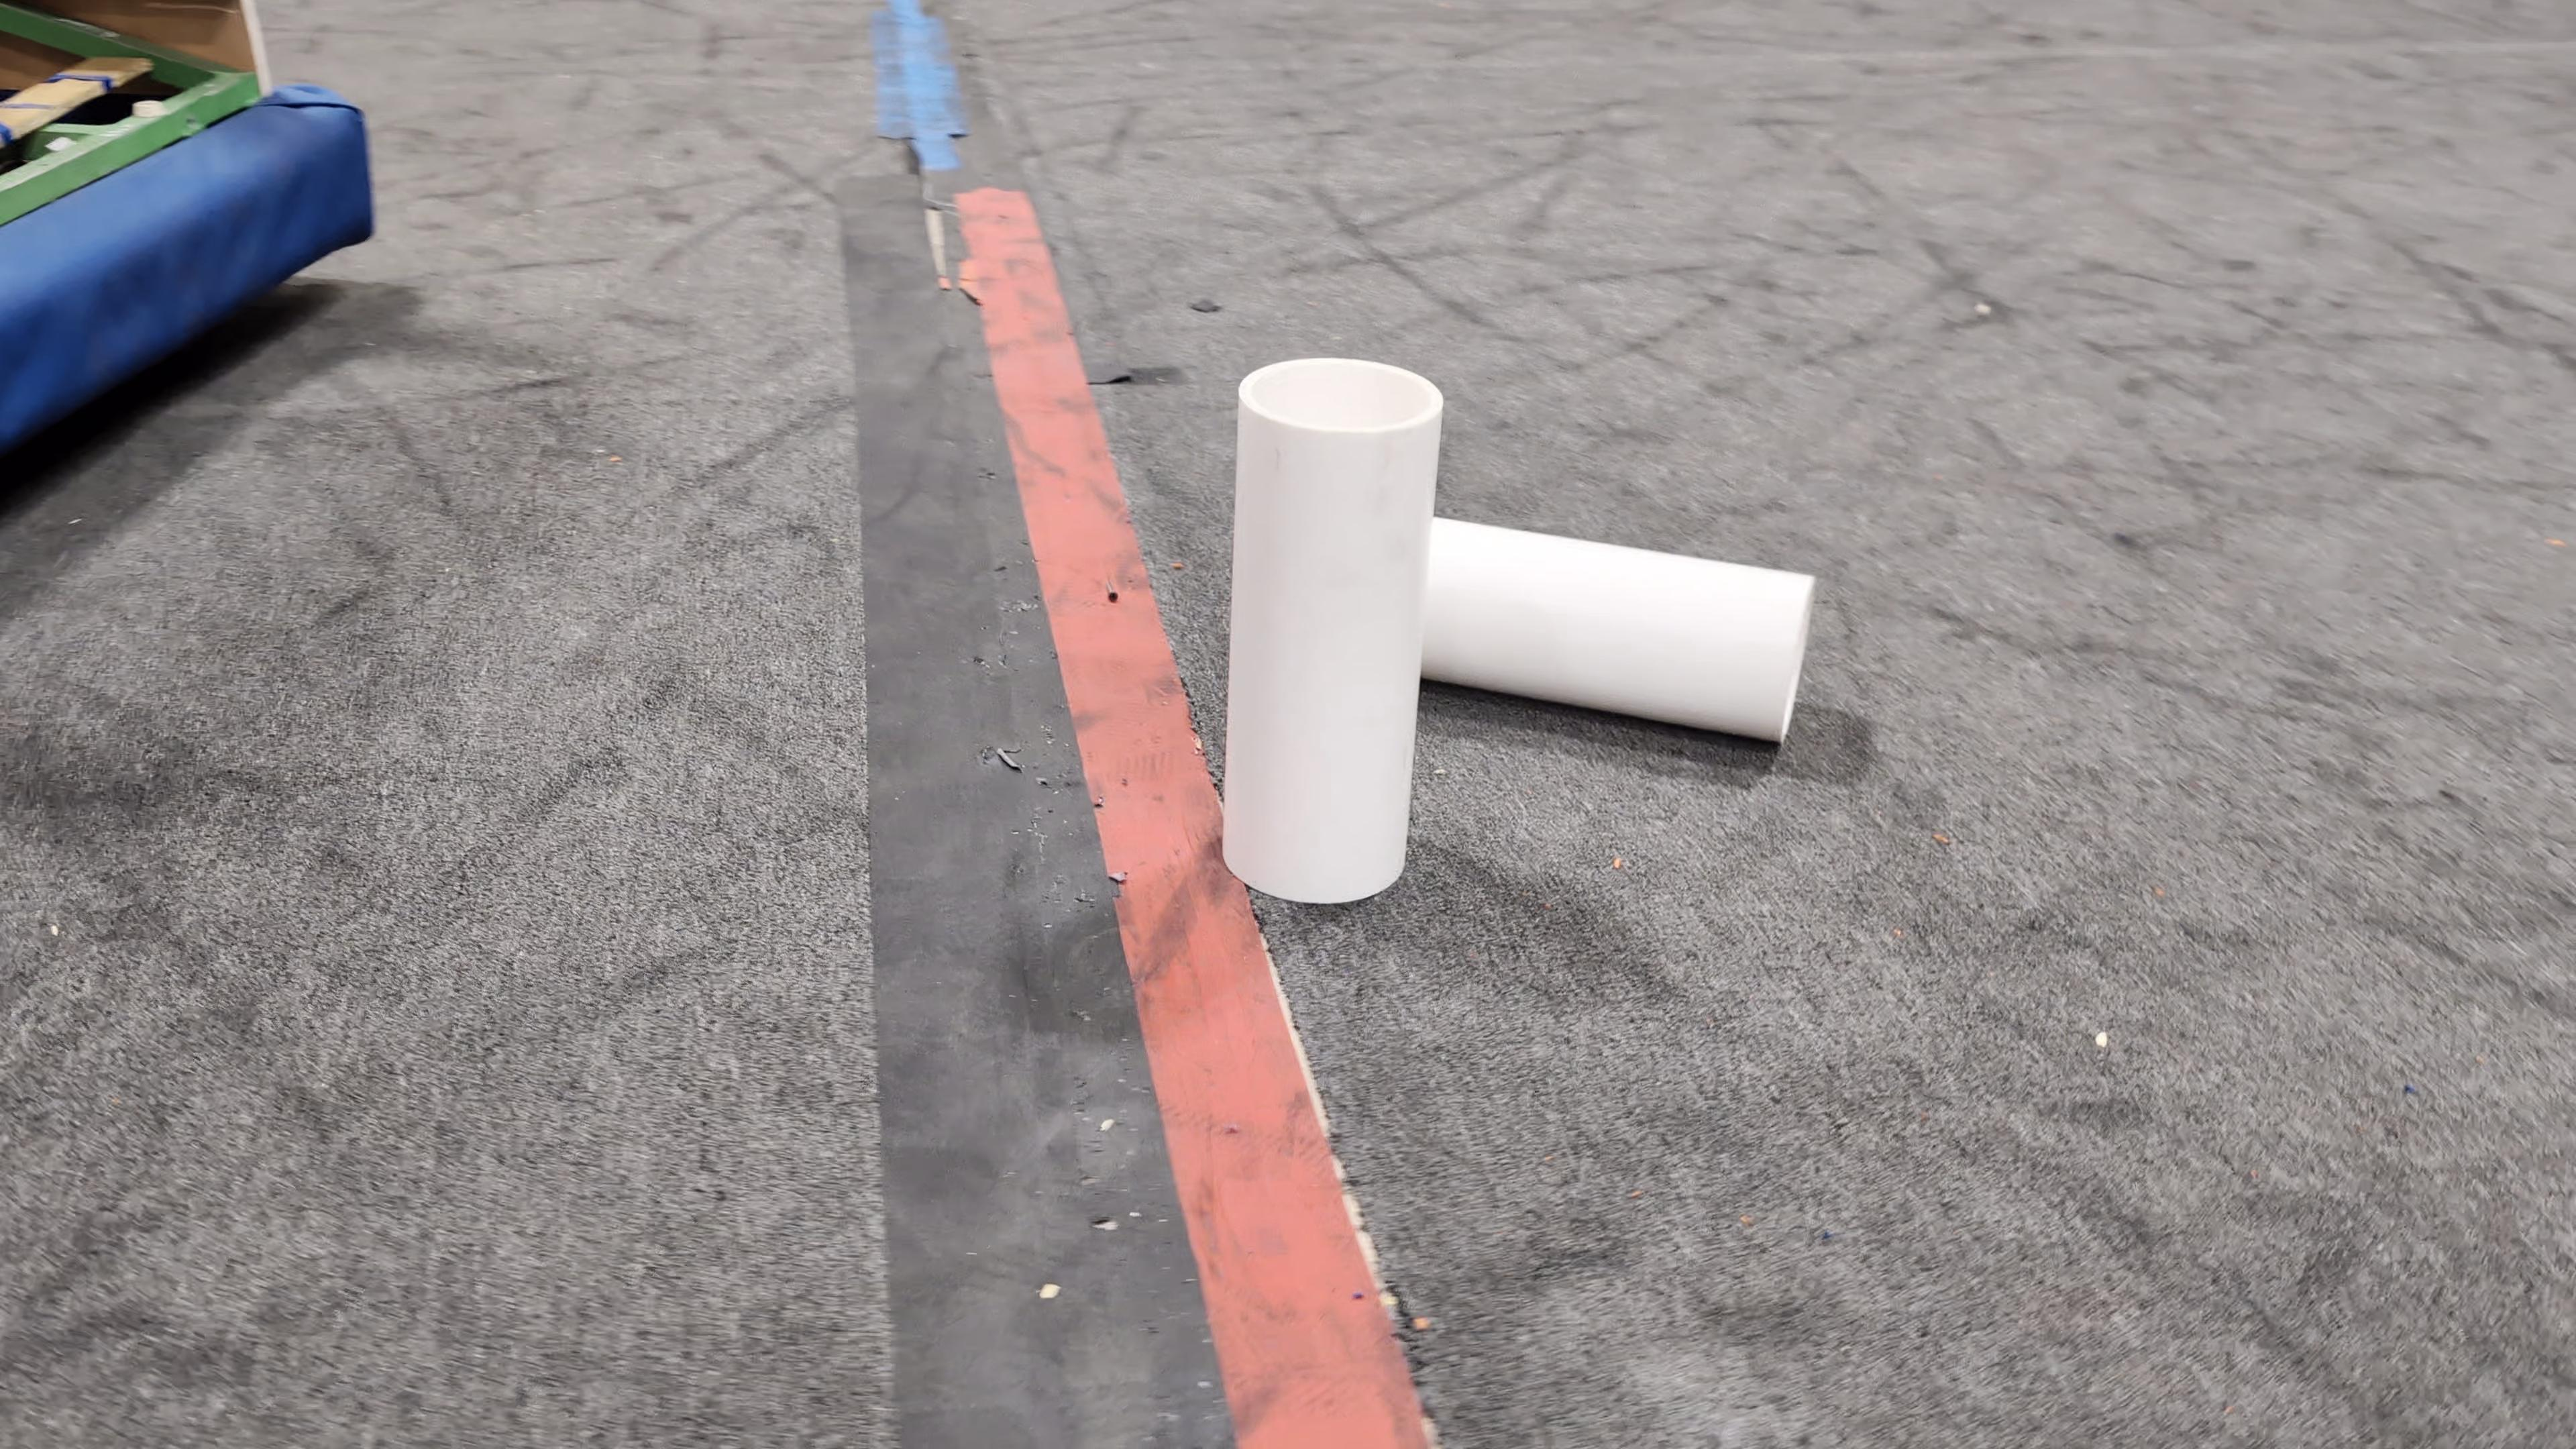coral: (1214, 356, 1445, 902), (1412, 511, 1819, 748)
